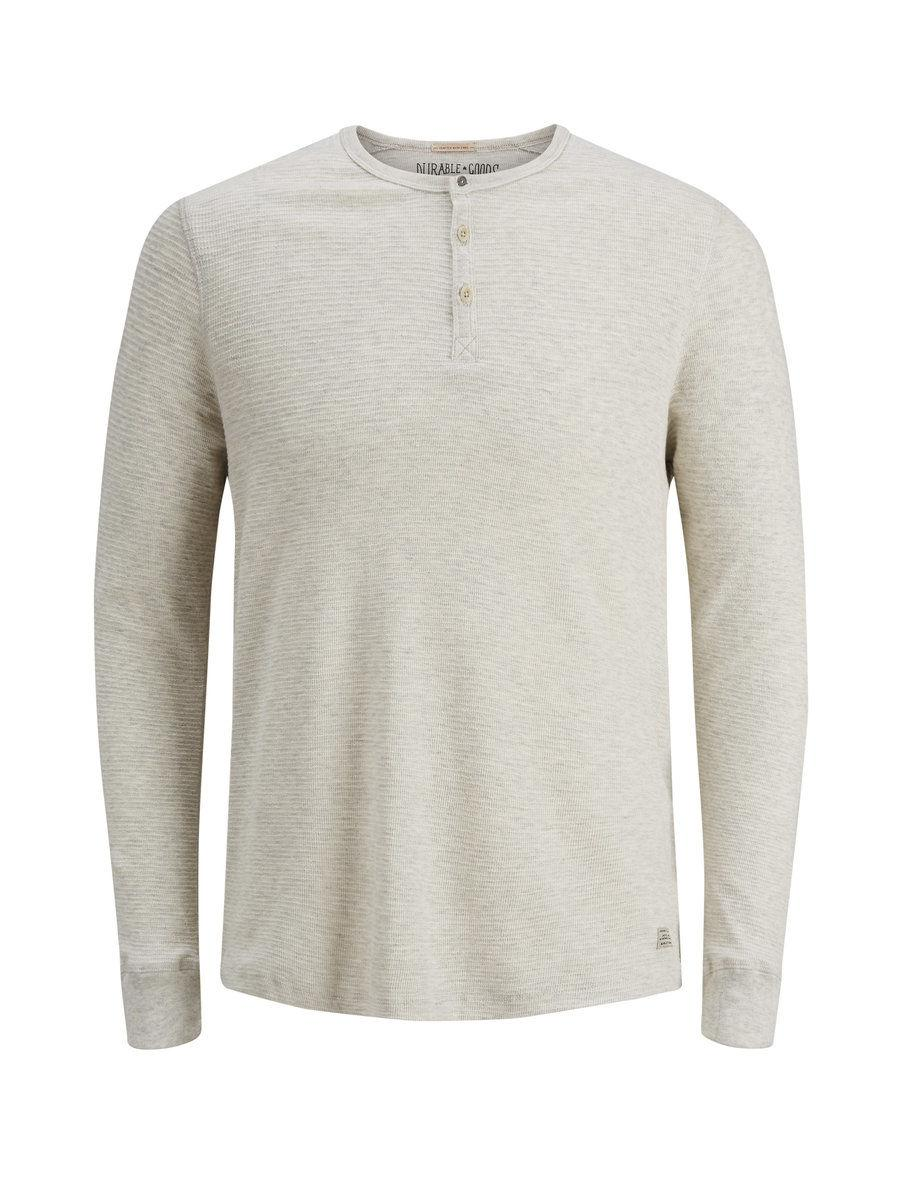teeshirt: (45, 122, 823, 1094)
